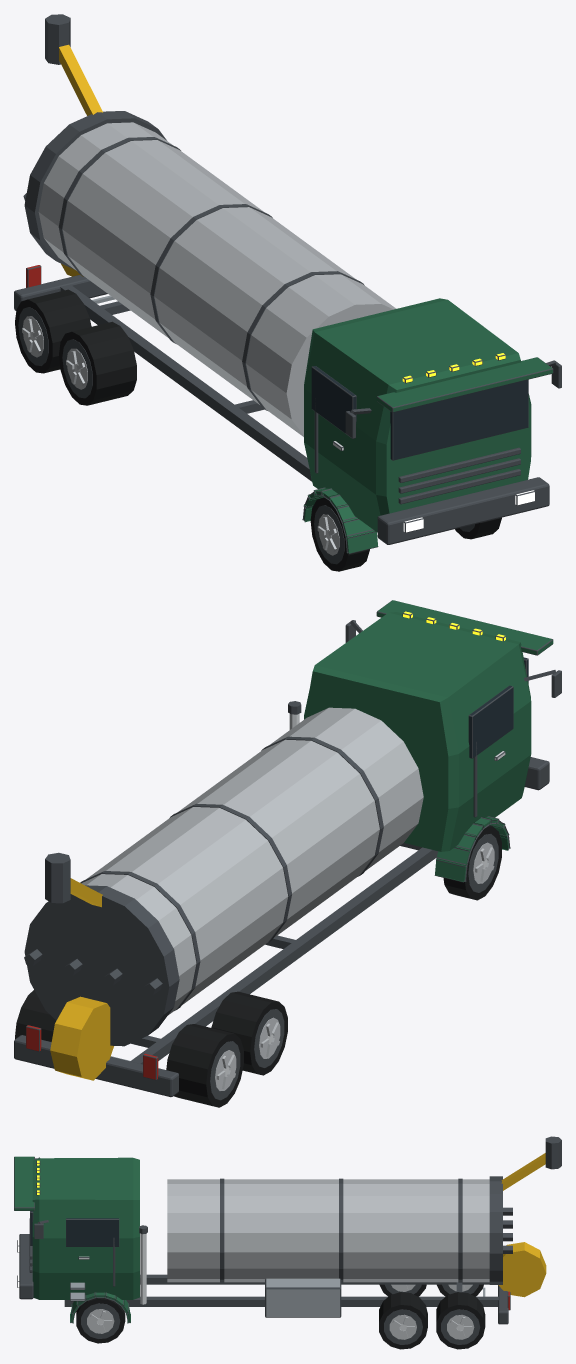
Rendered from veh_vacuum_truck.glb.
The picture shows the model from 3 angles, top to bottom: view 1: azimuth 30°, elevation 25°; view 2: azimuth 150°, elevation 25°; view 3: azimuth 270°, elevation 25°; orthographic projection. The views are drawn at different scales.
Visible parts, largest first — view 1: veh_vacuum_truck; view 2: veh_vacuum_truck; view 3: veh_vacuum_truck.
Boxes of the visible parts, left/top/right/bottom form: veh_vacuum_truck: left=14, top=14, right=561, bottom=571; veh_vacuum_truck: left=14, top=600, right=561, bottom=1107; veh_vacuum_truck: left=14, top=1136, right=561, bottom=1349.
Bounding box in the file's own units: 3.3 × 4.15 × 11.49.
